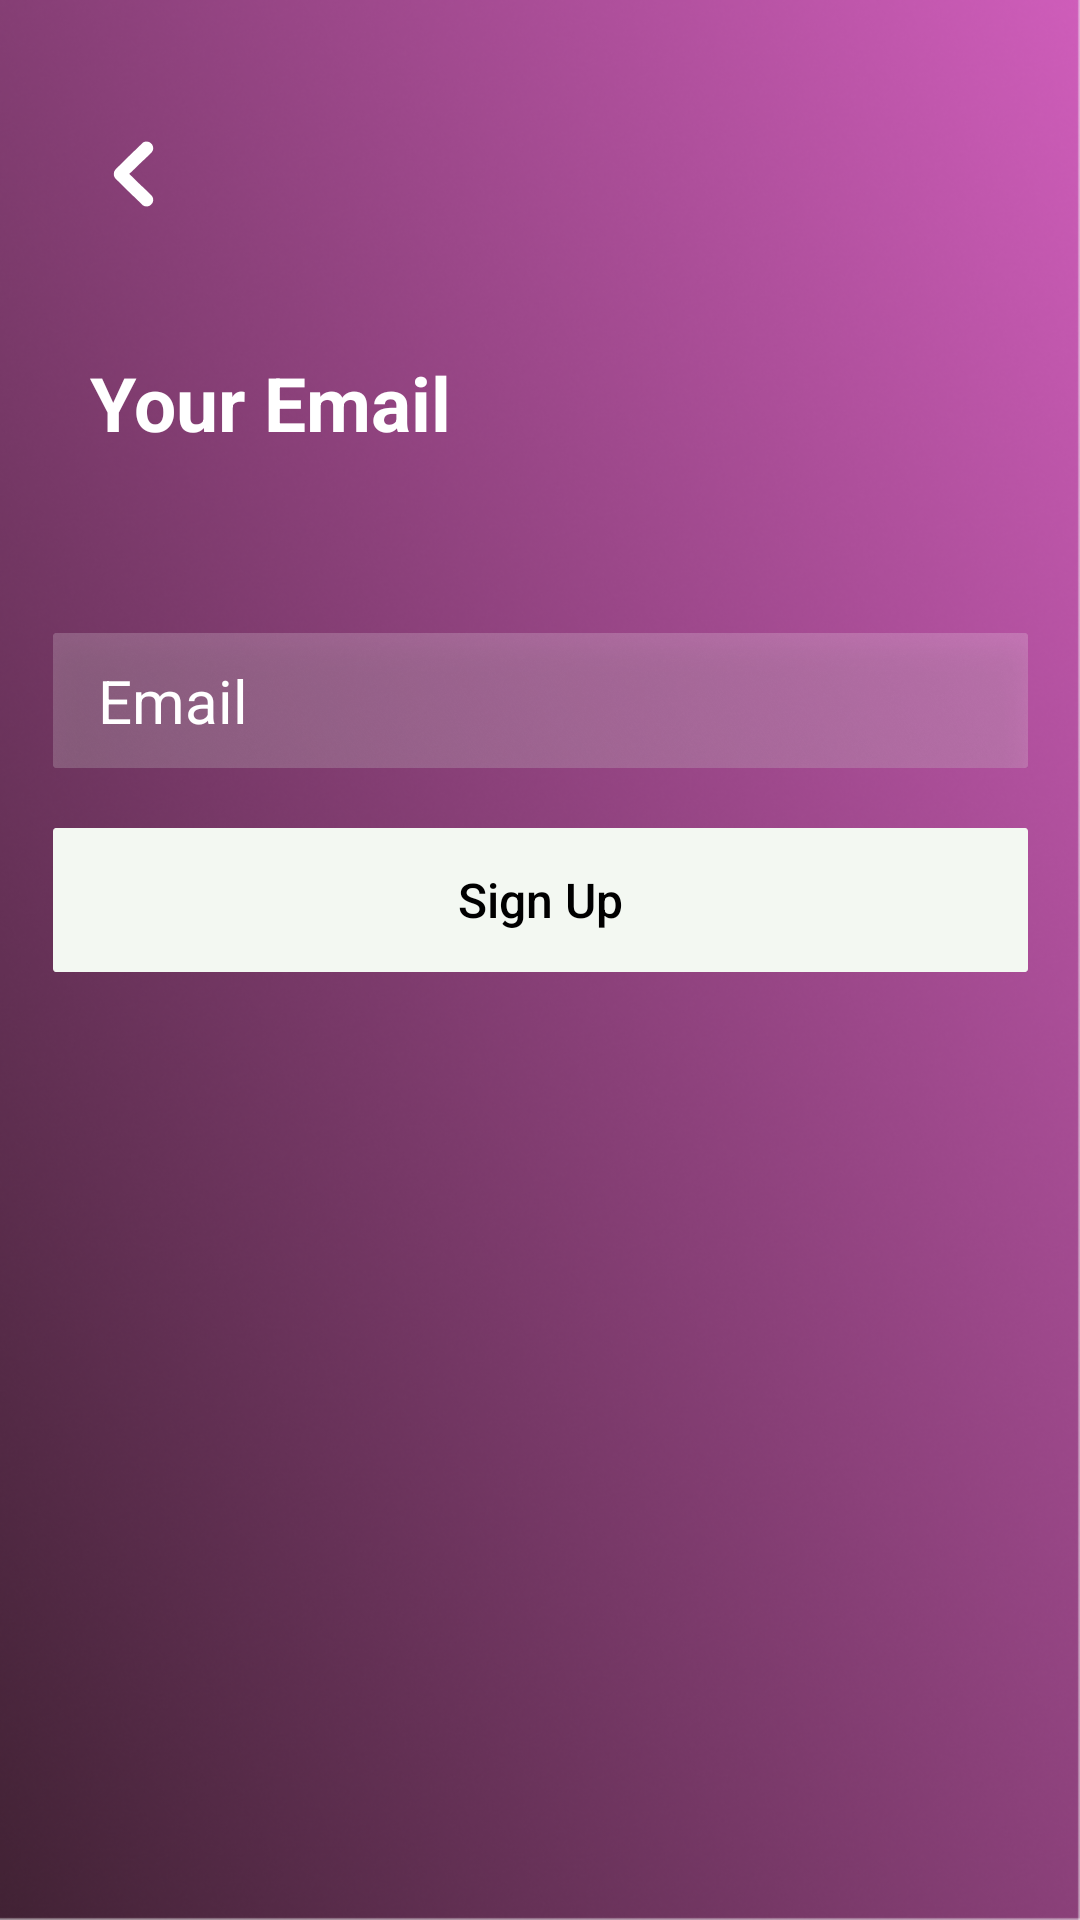

Where icons sit on this 1080 x 1920 app screen, as (left=x1, top=y1, right=x2, bottom=y2):
back: (left=113, top=141, right=154, bottom=207)
